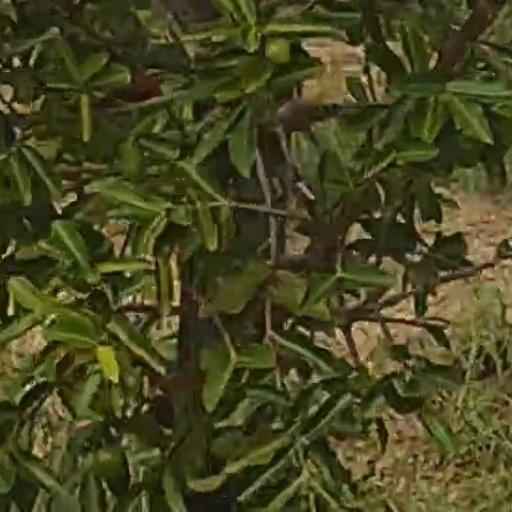acerola: (95, 449, 127, 478), (263, 39, 291, 63)
